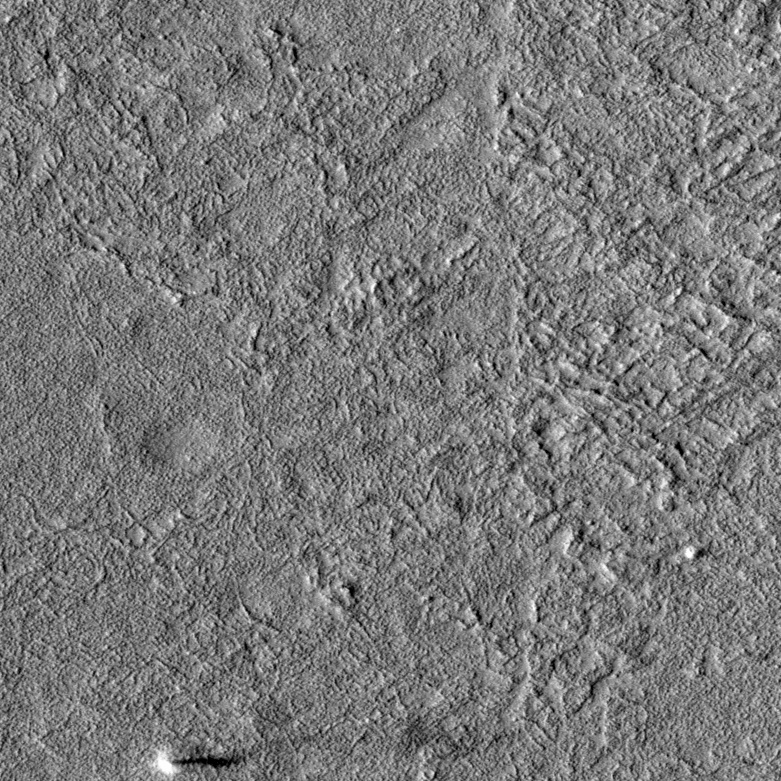dust_devil: (153, 747, 248, 776)
